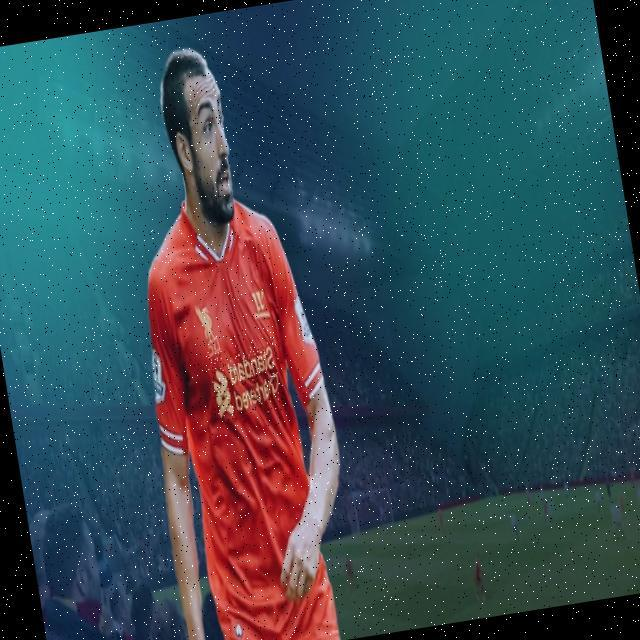Standard Chartered: (206, 340, 287, 422)
